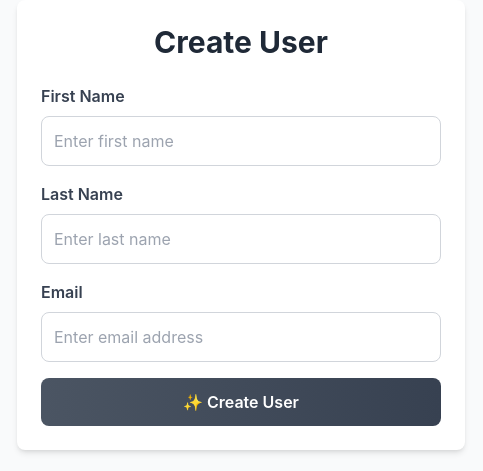
Test: CreateUser Component › Form Submission › submits form with valid data successfully
Type "John" into the field with test id "first-name-input".
click(241, 141); type("John")  # box [41,116,441,166]
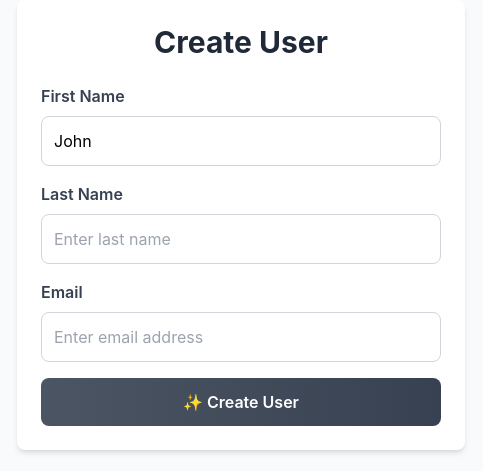
Type "Doe" into the field with test id "last-name-input".
click(241, 239); type("Doe")  # box [41,214,441,264]
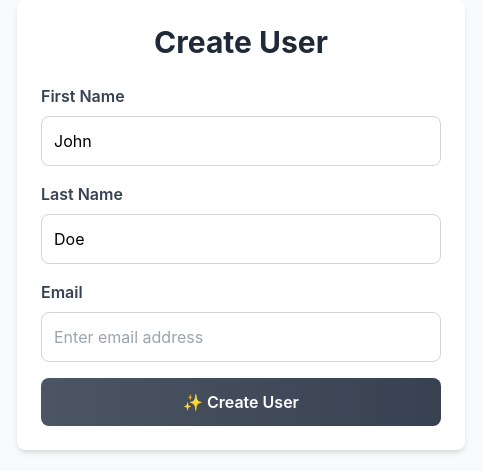
Type "john@example.com" into the field with test id "email-input".
click(241, 337); type("john@example.com")  # box [41,312,441,362]
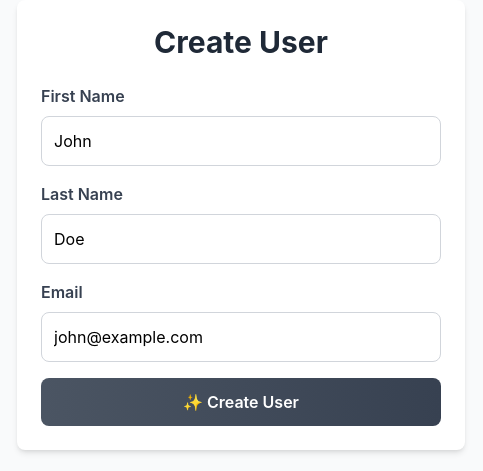
Click the button with test id "submit-button".
click(241, 402)  # box [41,378,441,426]
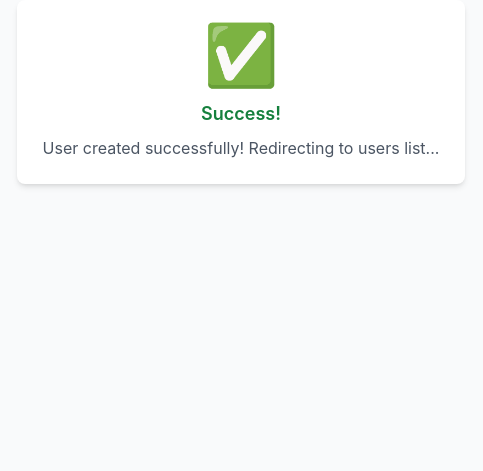
Check: the element with test id "success-message" is shown, box [17,0,465,184]
